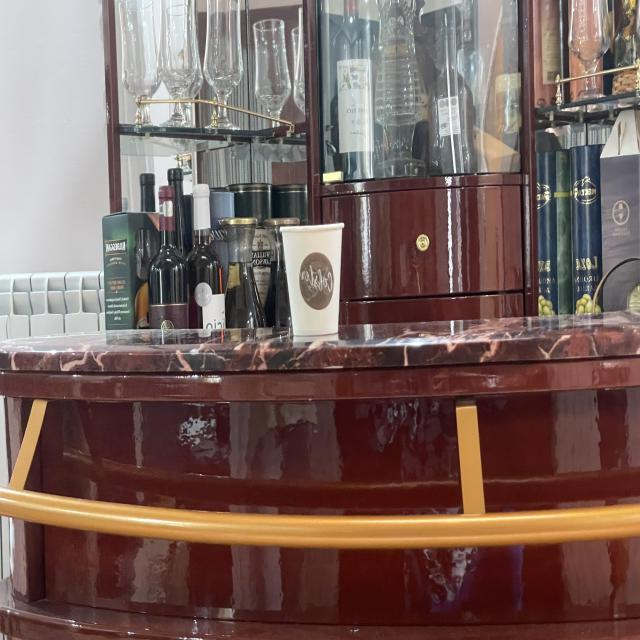medium: (278, 216, 350, 341)
